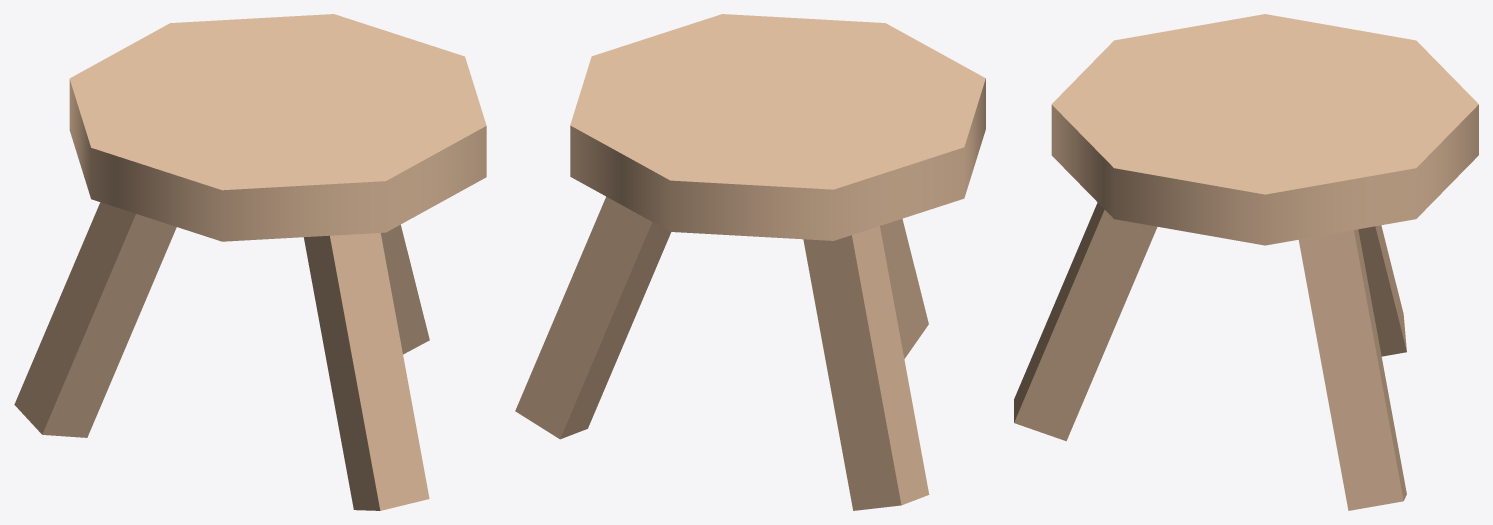
Rendered from stoolMilking.glb.
3 renders of one model, left to right at view 1: azimuth 30°, elevation 25°; view 2: azimuth 150°, elevation 25°; view 3: azimuth 270°, elevation 25°, orthographic.
Parts seen in each view (by area): view 1: stoolMilking; view 2: stoolMilking; view 3: stoolMilking.
Boxes of the visible parts, x1,y1,x2,y2 form: stoolMilking: [14, 14, 486, 510]; stoolMilking: [515, 14, 985, 510]; stoolMilking: [1014, 14, 1478, 510].
Size of the model in its own units: 0.197 by 0.1612 by 0.2067.
